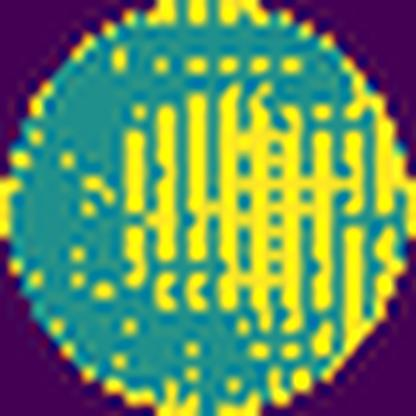Random: (103, 0, 416, 416)
